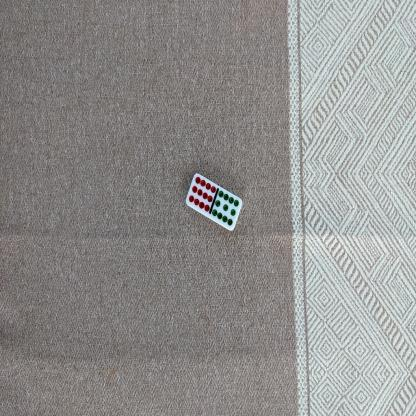pip-11: (212, 189, 241, 231)
pip-12: (185, 172, 216, 212)
